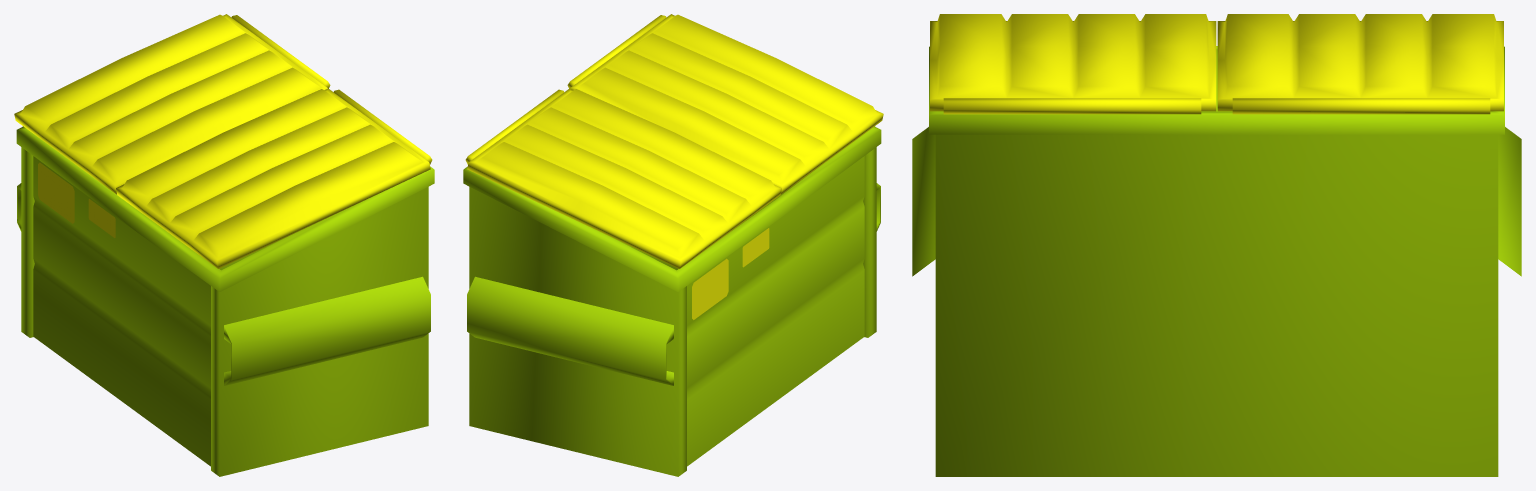
The model's file is DumpsterGreen.glb.
3 renders of one model, left to right at view 1: azimuth 30°, elevation 25°; view 2: azimuth 150°, elevation 25°; view 3: azimuth 270°, elevation 25°, orthographic. The views are drawn at different scales.
Visible parts, largest first — view 1: DumpsterGreen; view 2: DumpsterGreen; view 3: DumpsterGreen.
Boxes of the visible parts, x1,y1,x2,y2 form: DumpsterGreen: (14,14,434,476); DumpsterGreen: (463,14,883,476); DumpsterGreen: (912,14,1521,476).
Size of the model in its own units: 1.93 by 2.26 by 3.25.
Materials: 1 (1 with a texture image).
